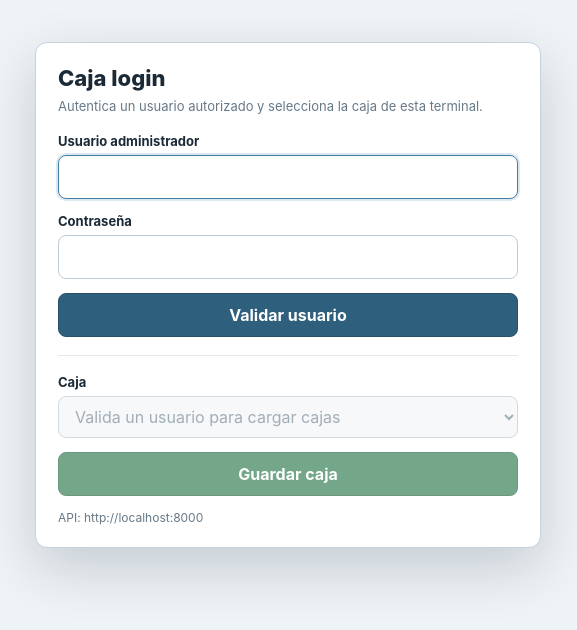
reports unexpected cash register item shape
Type "admin" into the field labelled "Usuario administrador" at (288, 177), box [58,155,518,199]
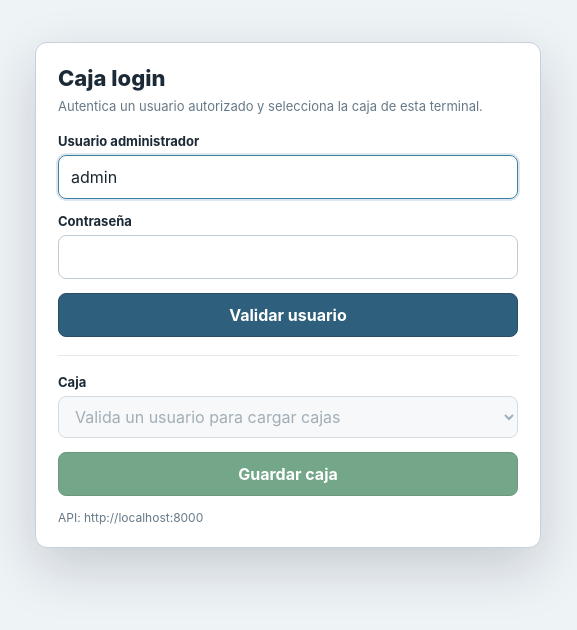
Type "secret" into the password field labelled "Contraseña" at (288, 257), box [58,235,518,279]
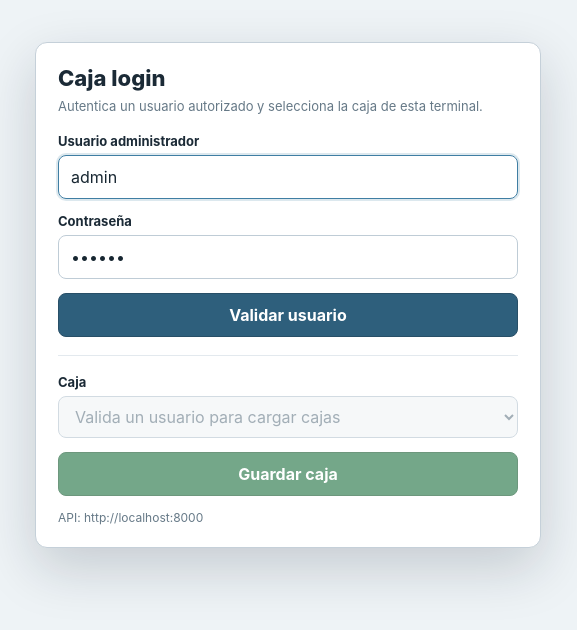
Click the button "Validar usuario" at (288, 315), box [58,293,518,337]
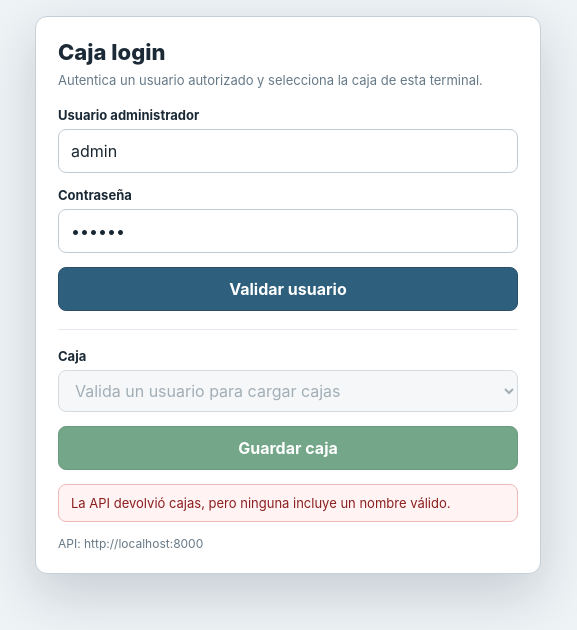
Result: the message reads "La API devolvió cajas, pero ninguna incluye un nombre válido." at [71,495,450,511]
